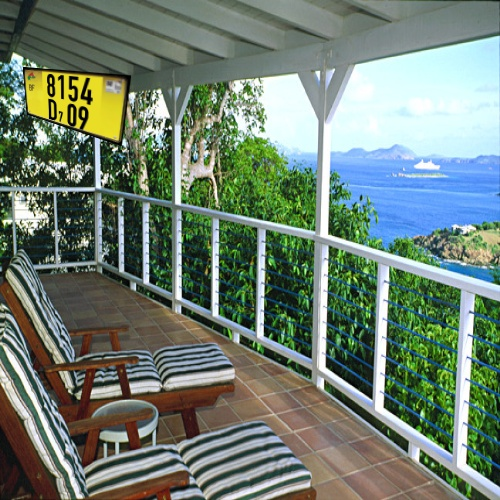plate: (18, 60, 145, 158)
